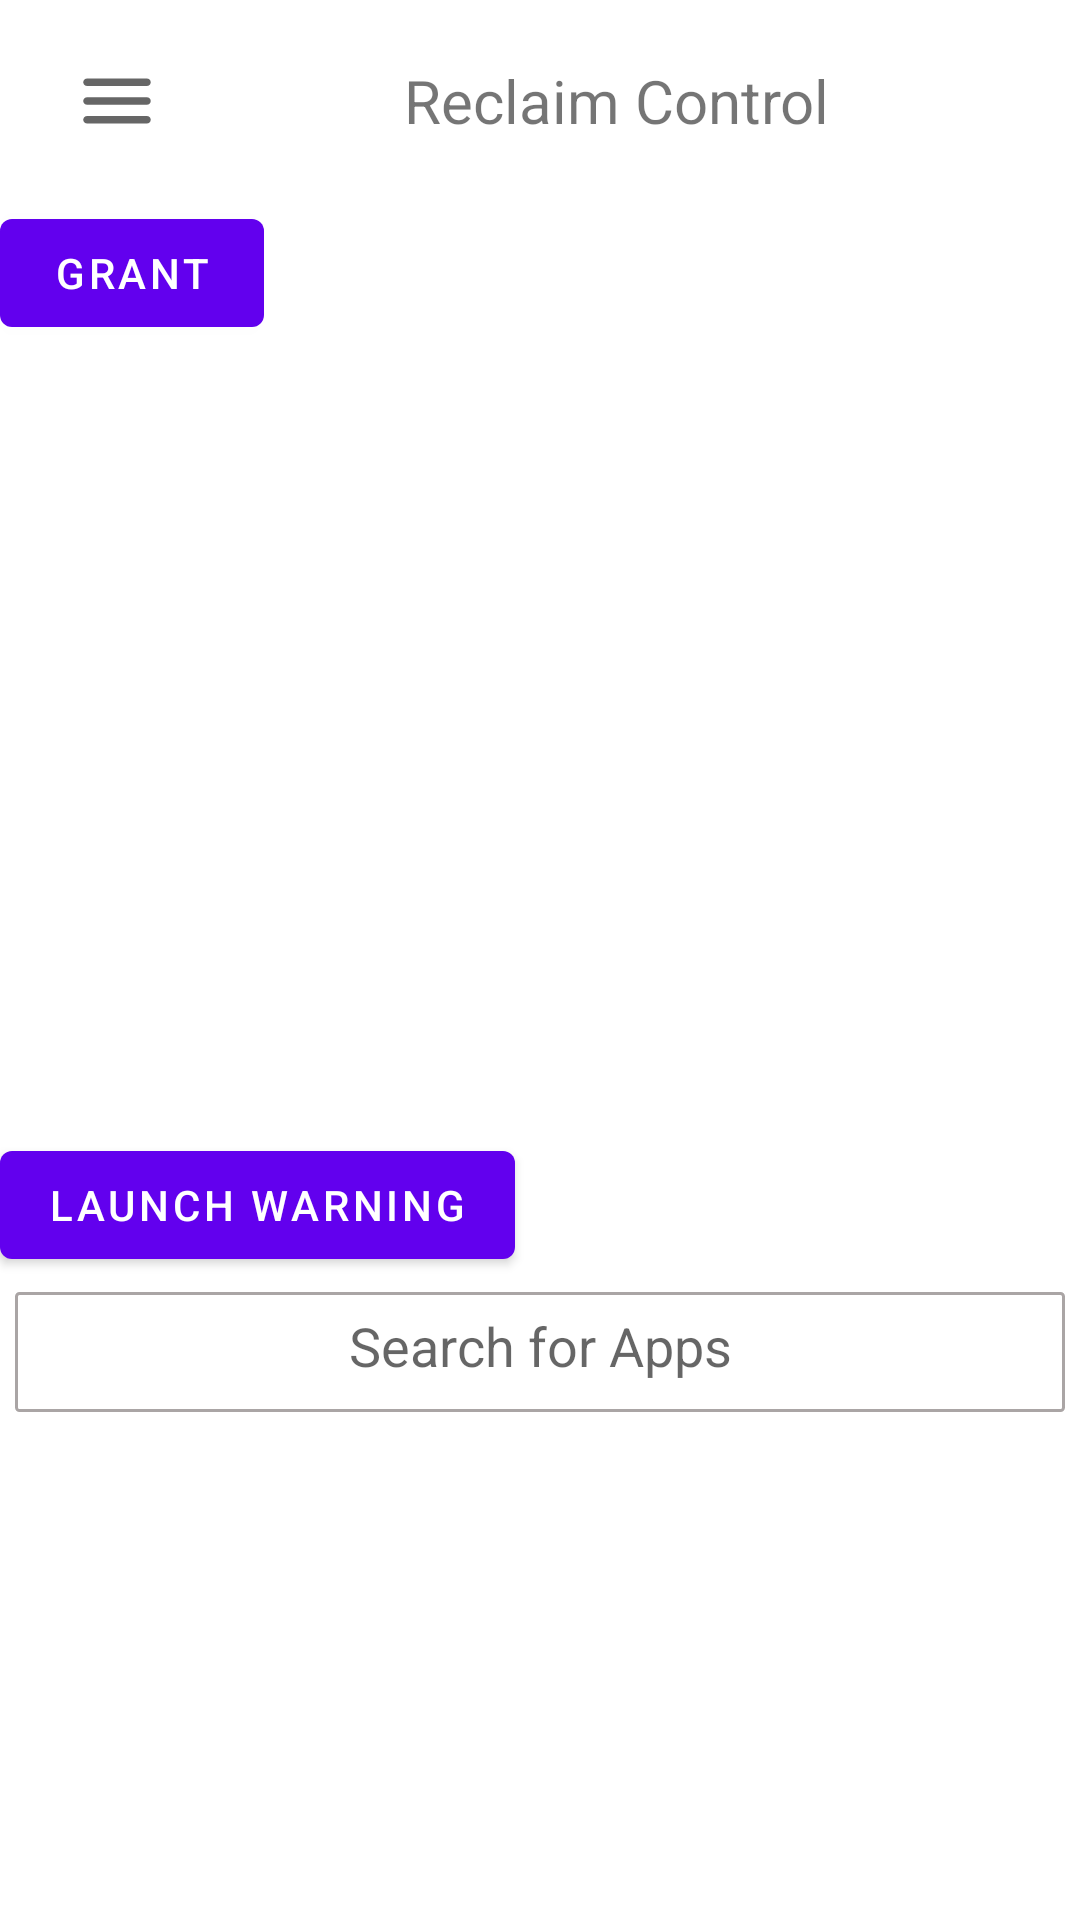

Icons on this 1080px x 1920px Android screen, each with the point to tap as (x,y):
menu: (117,101)
